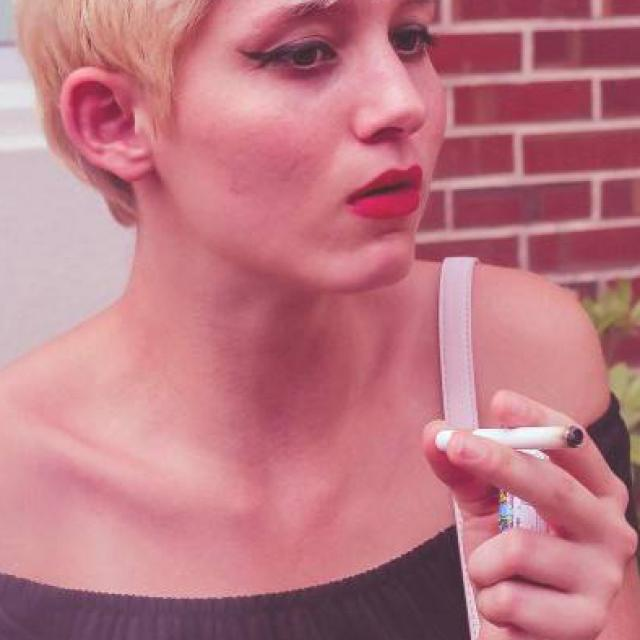smoking: (438, 422, 586, 455)
